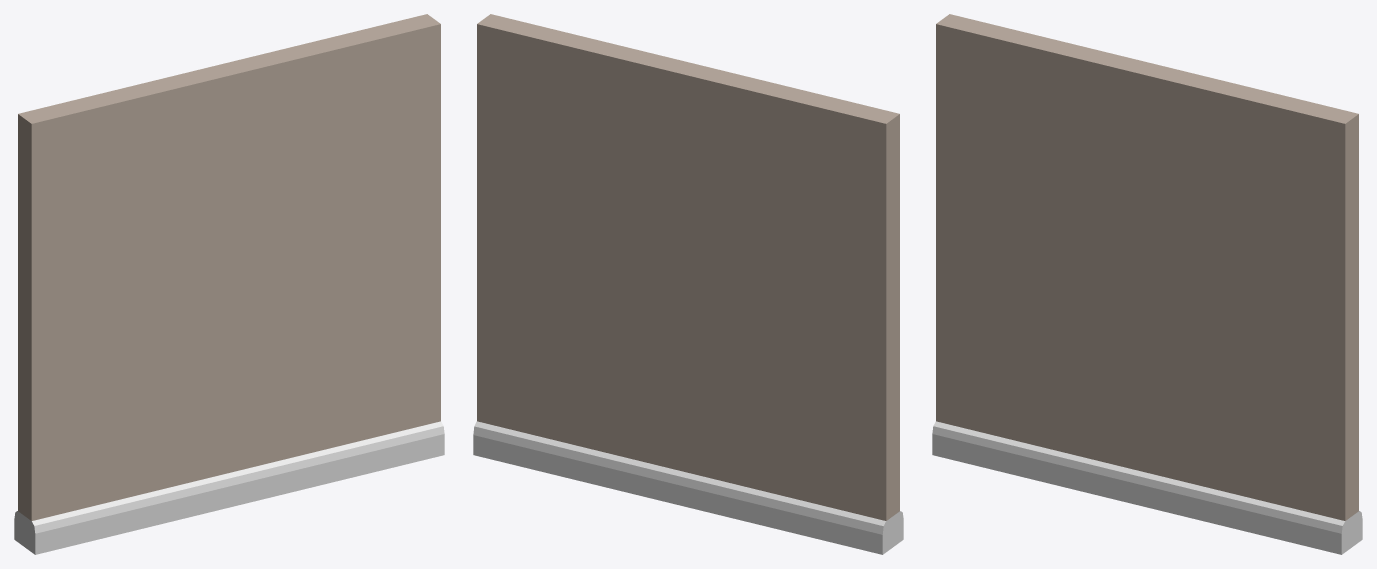
The model's file is WallFloor1_09_dra.glb.
3 renders of one model, left to right at view 1: azimuth 30°, elevation 25°; view 2: azimuth 150°, elevation 25°; view 3: azimuth 330°, elevation 25°, orthographic.
Parts seen in each view (by area): view 1: WallFloor1_09; view 2: WallFloor1_09; view 3: WallFloor1_09.
Boxes of the visible parts, bbox=[...] form: WallFloor1_09: bbox=[14, 14, 444, 554]; WallFloor1_09: bbox=[473, 14, 903, 554]; WallFloor1_09: bbox=[932, 14, 1362, 554].
Bounding box in the file's own units: 2.5 × 2.5 × 0.2211.
Materials: 1 (1 with a texture image).
